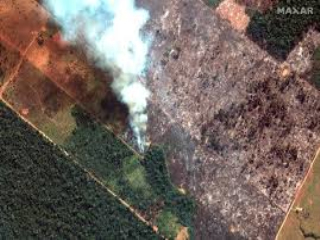smoke: (93, 12, 168, 156)
